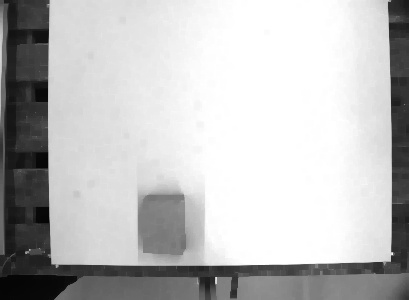b6: (138, 191, 186, 259)
